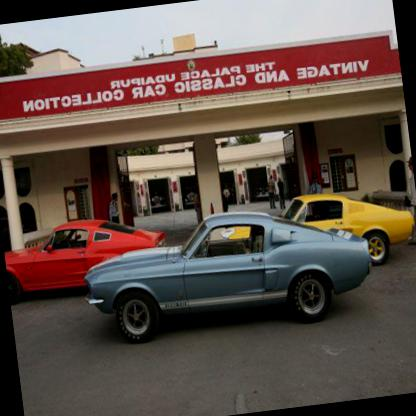car: (76, 196, 378, 352), (217, 180, 415, 286), (2, 210, 172, 305)
